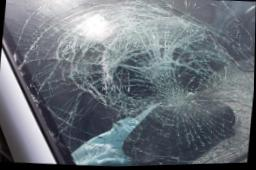Windshield: (5, 0, 256, 167)
